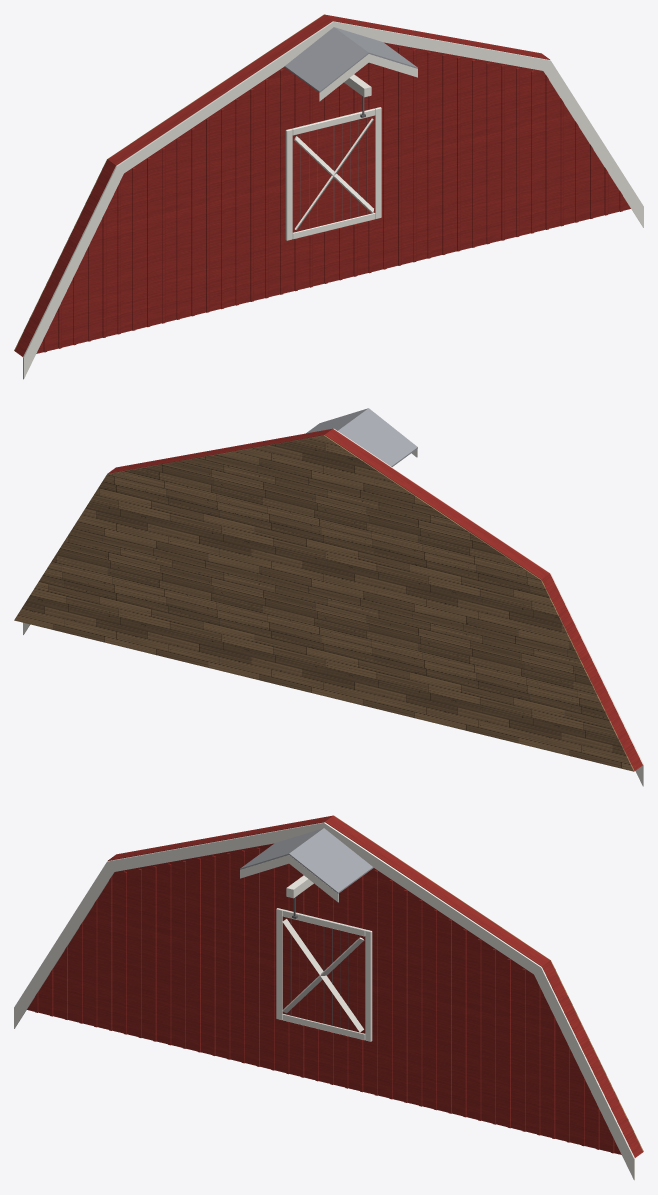
The model's file is barn_gable_front.glb.
3 renders of one model, top to bottom at view 1: azimuth 30°, elevation 25°; view 2: azimuth 150°, elevation 25°; view 3: azimuth 330°, elevation 25°, orthographic.
Parts seen in each view (by area): view 1: barn_gable_front_barn, barn_gable_front_trim, barn_gable_front_metal, barn_gable_front_dark, barn_gable_front_planks; view 2: barn_gable_front_planks, barn_gable_front_barn, barn_gable_front_metal, barn_gable_front_trim; view 3: barn_gable_front_barn, barn_gable_front_trim, barn_gable_front_metal, barn_gable_front_dark, barn_gable_front_planks.
Boxes of the visible parts, box(x1,y1,x2,y2) form: barn_gable_front_barn: box(15, 14, 630, 356); barn_gable_front_trim: box(23, 21, 643, 379); barn_gable_front_metal: box(284, 27, 417, 92); barn_gable_front_dark: box(300, 118, 367, 229); barn_gable_front_planks: box(14, 14, 324, 350); barn_gable_front_planks: box(14, 435, 634, 771); barn_gable_front_barn: box(107, 428, 642, 770); barn_gable_front_metal: box(306, 408, 417, 466); barn_gable_front_trim: box(23, 428, 643, 786); barn_gable_front_barn: box(27, 815, 642, 1157); barn_gable_front_trim: box(14, 822, 634, 1180); barn_gable_front_metal: box(240, 828, 373, 893); barn_gable_front_dark: box(290, 919, 357, 1030); barn_gable_front_planks: box(333, 815, 643, 1151).
Bounding box in the file's own units: 12 × 5.22 × 1.5.
6 materials, 2 textured.
